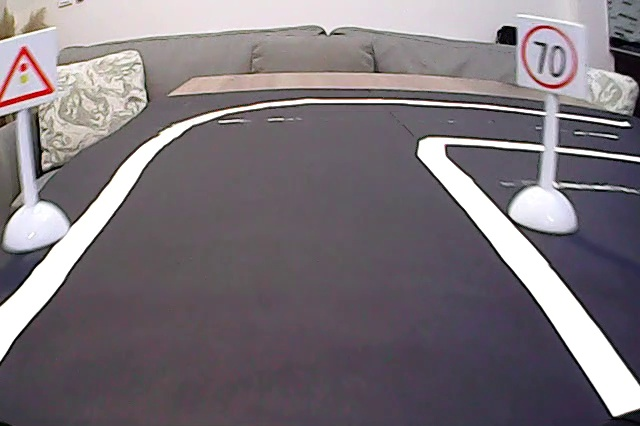red light: (1, 42, 58, 107)
speed limit 70: (520, 13, 583, 93)
